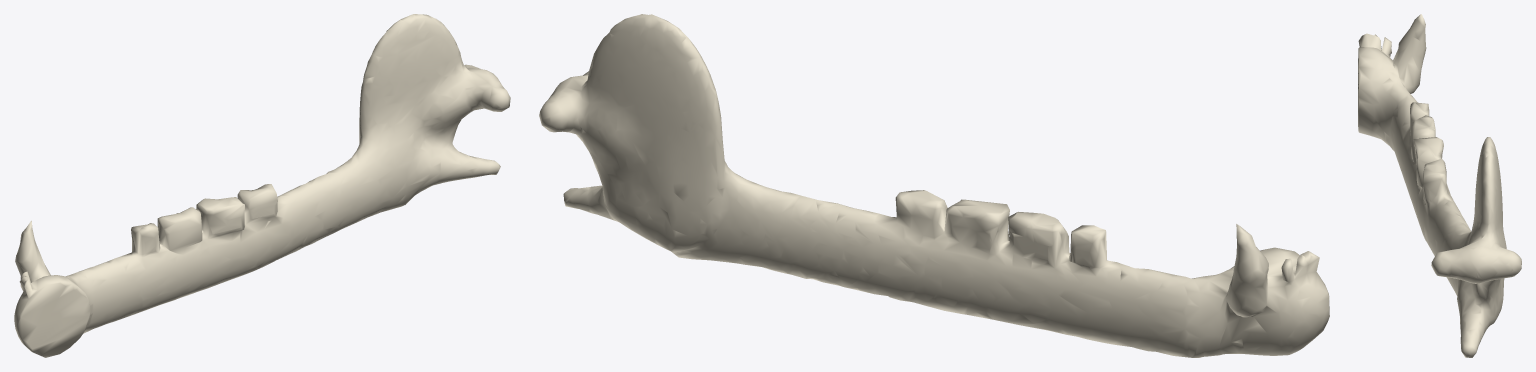
Rendered from mandible_r.glb.
3 renders of one model, left to right at view 1: azimuth 30°, elevation 25°; view 2: azimuth 150°, elevation 25°; view 3: azimuth 270°, elevation 25°, orthographic. The views are drawn at different scales.
Visible parts, largest first — view 1: geometry_0; view 2: geometry_0; view 3: geometry_0.
Part boxes in pixels (x1,y1,x2,y2): geometry_0: [14, 14, 510, 357]; geometry_0: [539, 14, 1329, 357]; geometry_0: [1358, 14, 1521, 357].
Bounding box in the file's own units: 0.8244 × 0.2942 × 0.2069.
